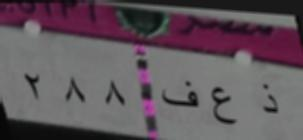2: (18, 66, 43, 102)
8: (63, 72, 88, 109), (102, 76, 127, 112)
ain: (209, 84, 240, 133)
faa: (158, 77, 199, 110)
zaal: (257, 79, 283, 118)
